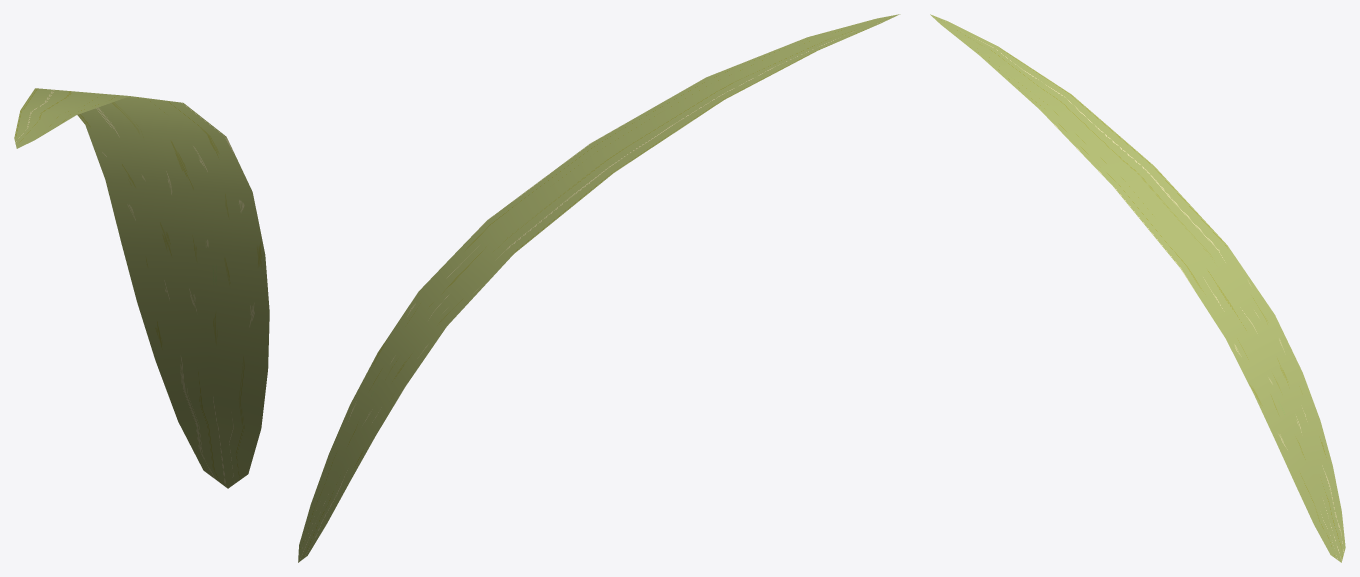
Rendered from brin dherbe solo.fbx.
3 views of the same model, side by side, from view 1: azimuth 30°, elevation 25°; view 2: azimuth 150°, elevation 25°; view 3: azimuth 270°, elevation 25° (orthographic). The views are drawn at different scales.
Parts seen in each view (by area): view 1: brin; view 2: brin; view 3: brin.
Boxes of the visible parts, box(x1,y1,x2,y2) form: brin: box(14, 88, 269, 488); brin: box(298, 14, 900, 562); brin: box(930, 14, 1345, 562).
Bounding box in the file's own units: 2.77 × 3.32 × 3.15.
Materials: 1 (1 with a texture image).
